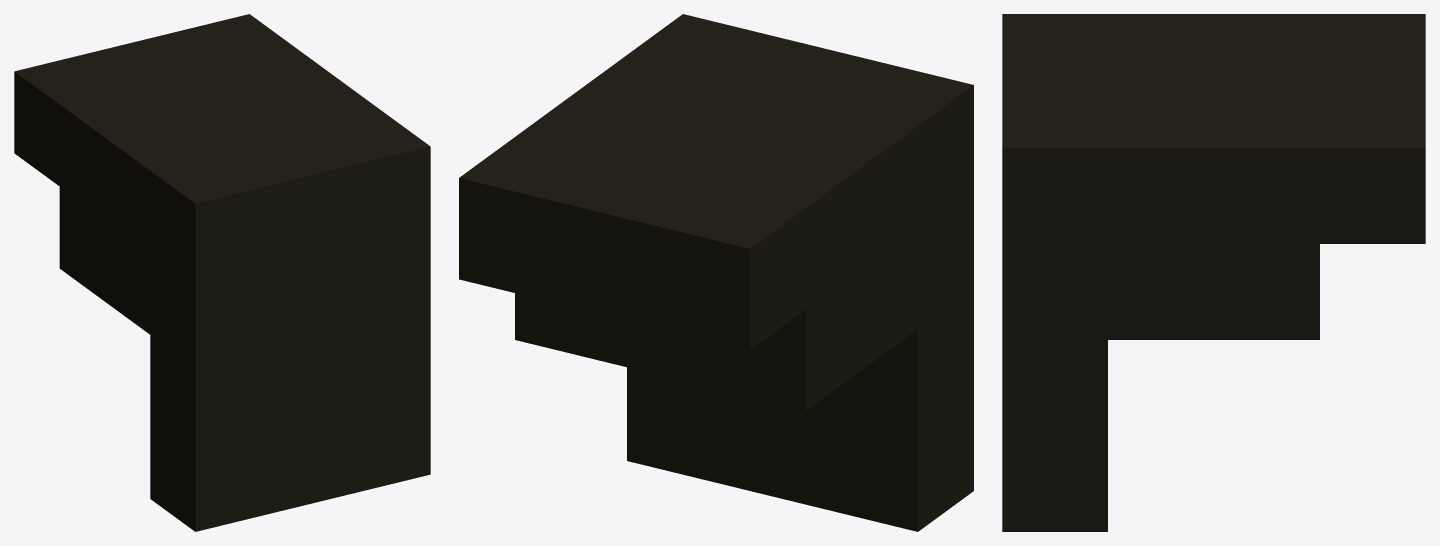
File: Hero_Hair.dae
3 views of the same model, side by side, from view 1: azimuth 30°, elevation 25°; view 2: azimuth 150°, elevation 25°; view 3: azimuth 270°, elevation 25° (orthographic). The views are drawn at different scales.
Parts seen in each view (by area): view 1: Hero_Hair; view 2: Hero_Hair; view 3: Hero_Hair.
Part boxes in pixels (x1,y1,x2,y2): Hero_Hair: (14, 14, 430, 531); Hero_Hair: (459, 14, 973, 531); Hero_Hair: (1002, 14, 1425, 531).
Bounding box in the file's own units: 0.3 × 0.4 × 0.4.
Materials: 1 (1 with a texture image).
